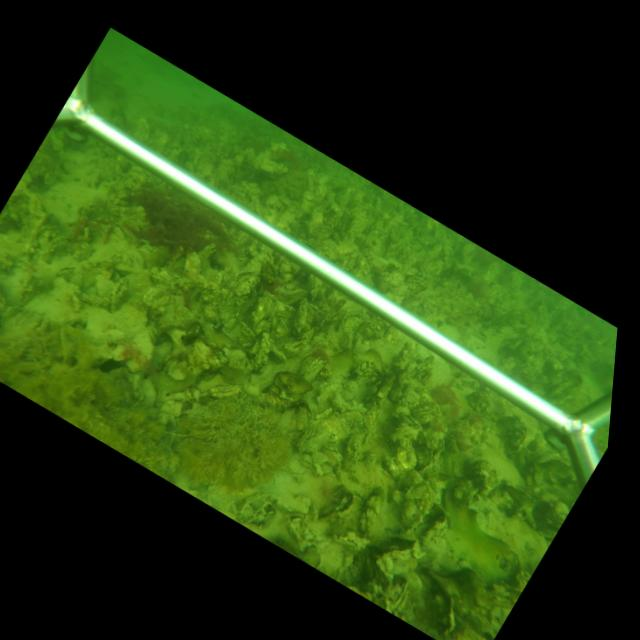Oyster-Closed: (216, 269, 259, 331), (293, 399, 315, 451), (312, 414, 352, 442), (206, 384, 242, 399), (268, 344, 287, 363)
Oyster-Indeterminate: (399, 478, 434, 533), (342, 432, 365, 470)
Oyster-Open: (316, 490, 354, 520)
